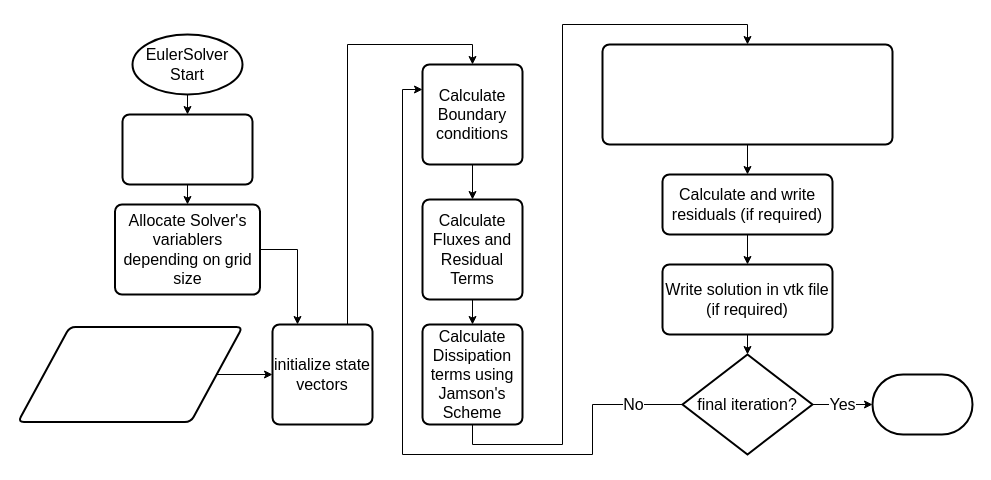
This 991x480 diagram has some shape labels left out. Here are the shapes that lost their labels. From the top down, the box of each, then its label:
(601, 43, 893, 145): Update state variables using RK4
(121, 113, 253, 185): Read Grid from vtk format
(16, 326, 243, 422): Upstream density, velocity components, & specific energy
(871, 373, 973, 435): Done
